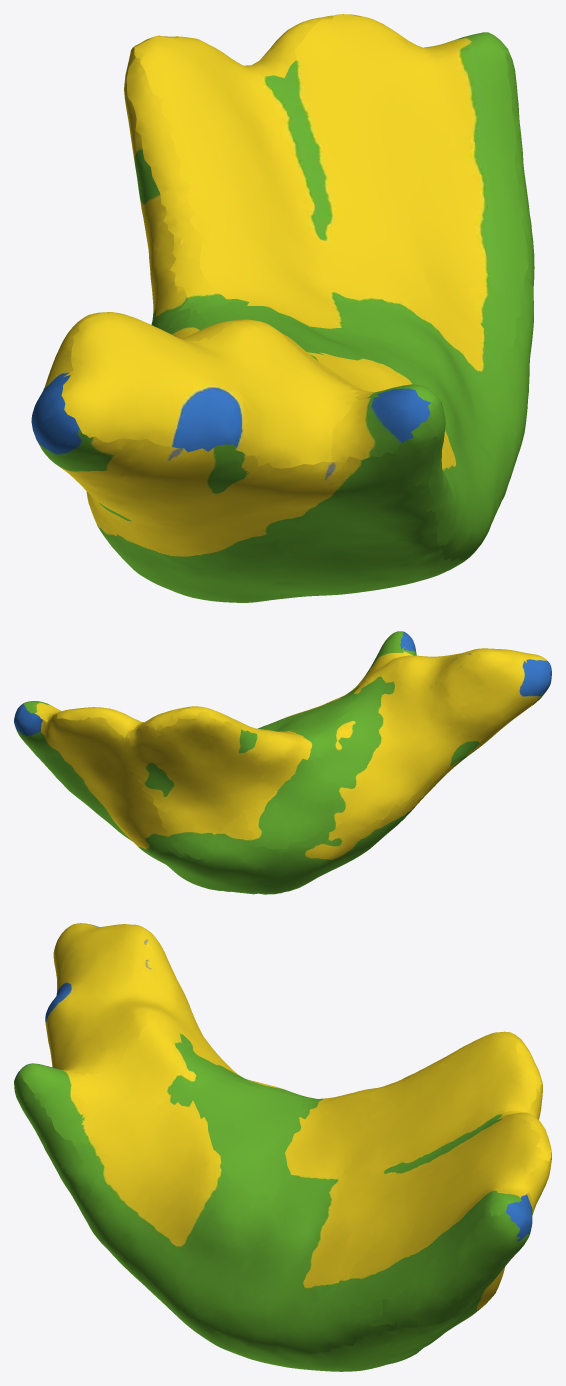
File: doublerocker.glb
The picture shows the model from 3 angles, top to bottom: view 1: azimuth 30°, elevation 25°; view 2: azimuth 150°, elevation 25°; view 3: azimuth 270°, elevation 25°; orthographic projection. The views are drawn at different scales.
Parts seen in each view (by area): view 1: geometry_0; view 2: geometry_0; view 3: geometry_0.
Part boxes in pixels (x1=…): geometry_0: x1=31, y1=14, x2=534, y2=602; geometry_0: x1=14, y1=631, x2=551, y2=894; geometry_0: x1=14, y1=923, x2=551, y2=1371.
Size of the model in its own units: 0.8433 by 0.4485 by 0.7288.
1 material, 1 textured.
